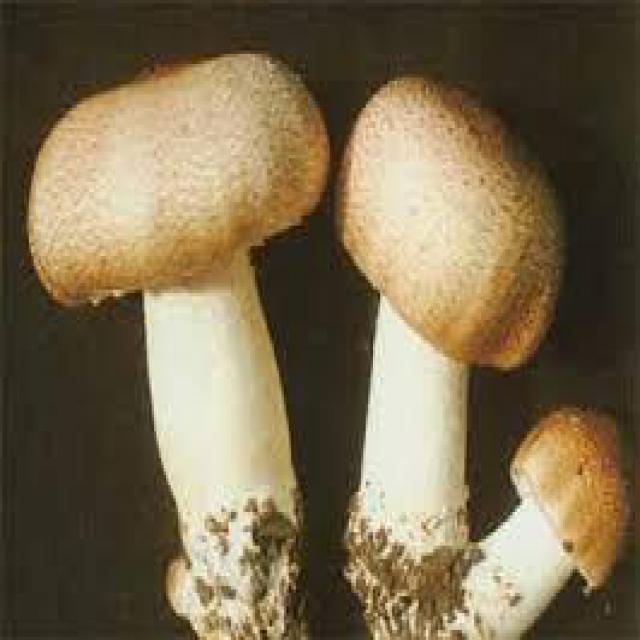Agaricus blazei Murill: (25, 50, 327, 632), (339, 69, 632, 640)
